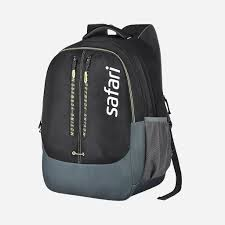backpack: (38, 22, 182, 201)
